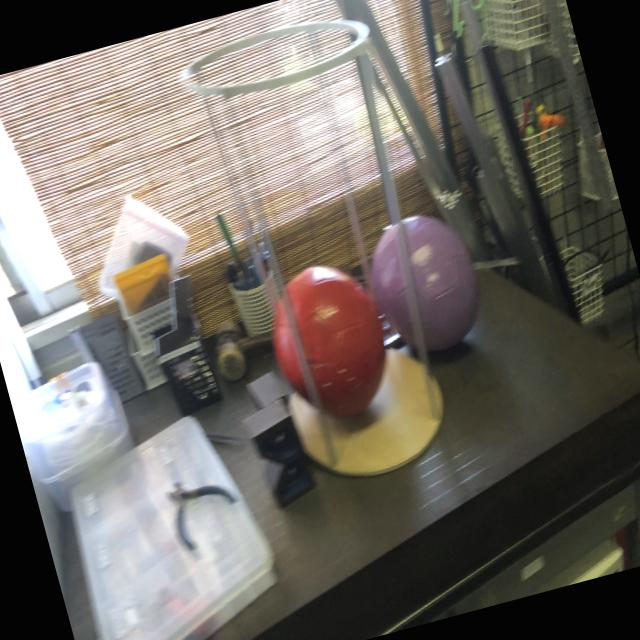purple_ball: (356, 203, 494, 365)
red_ball: (256, 252, 402, 432)
